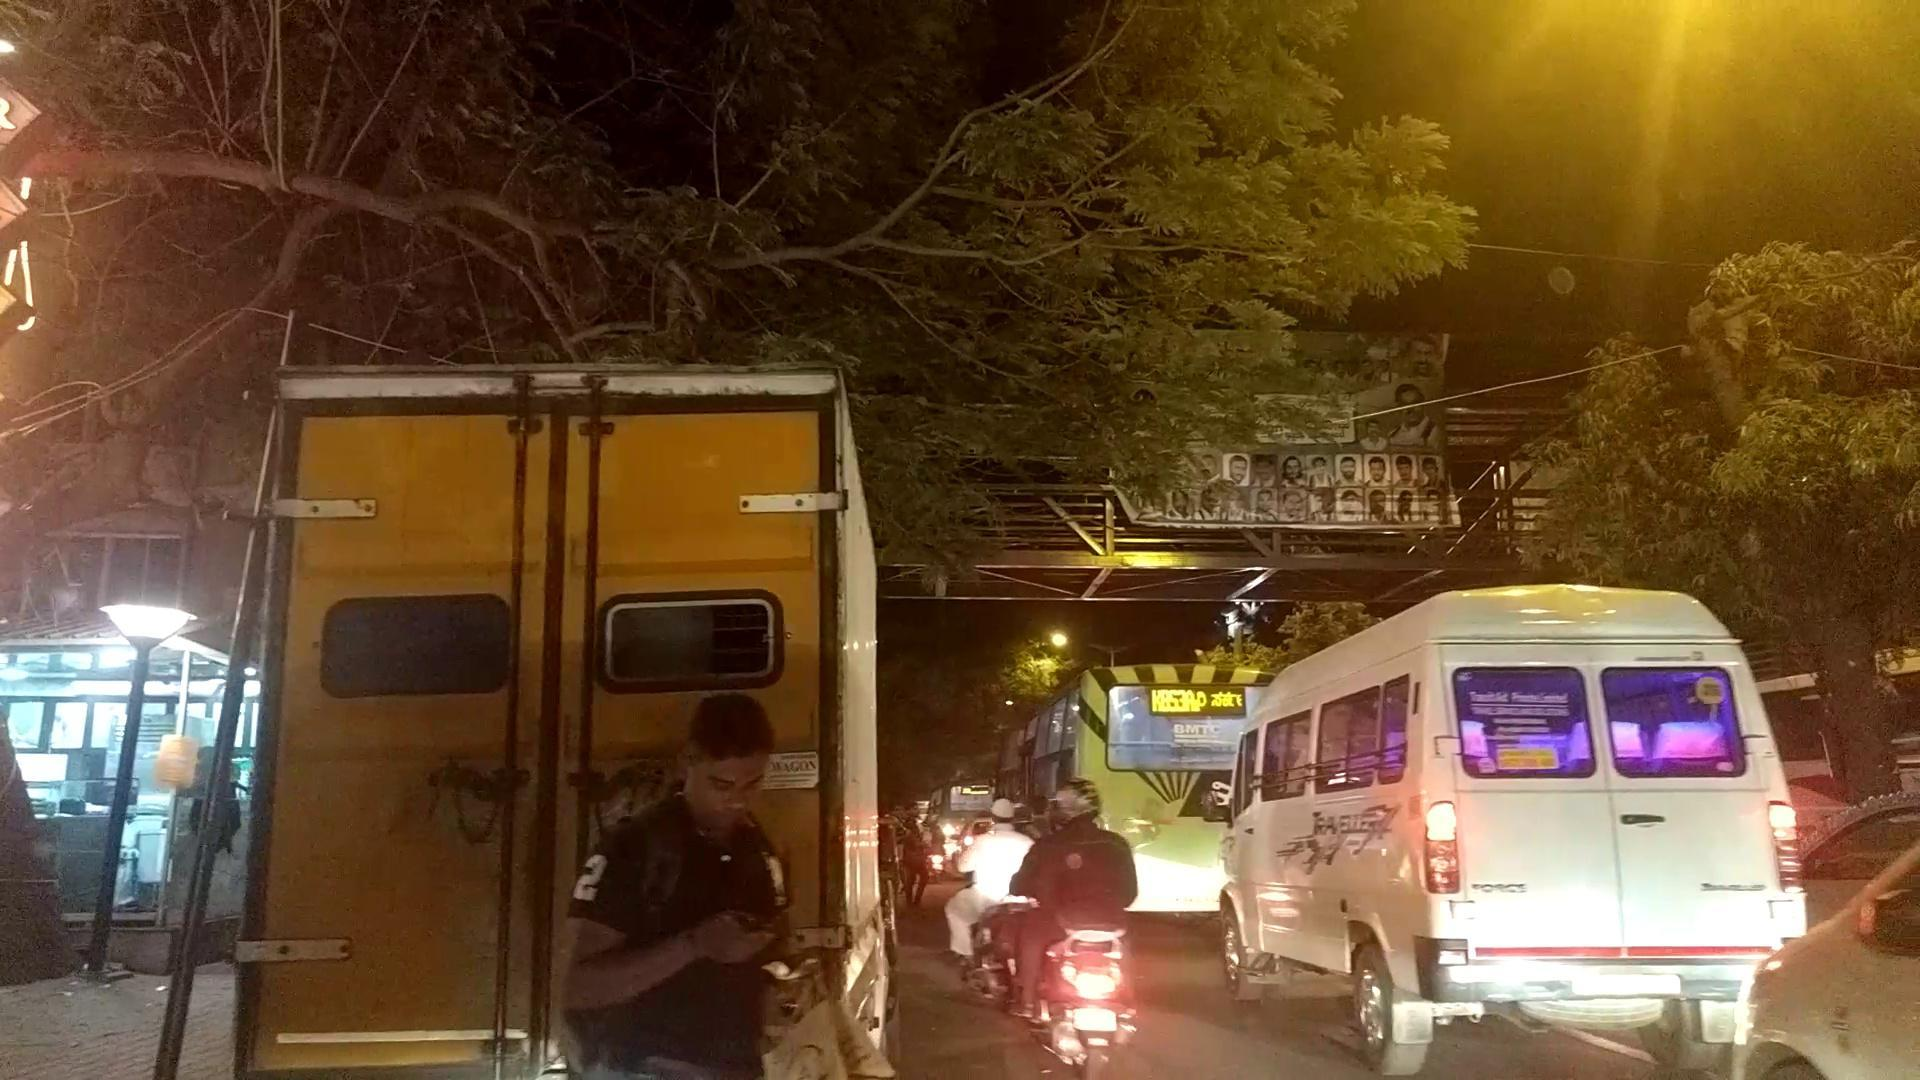on: (40, 73, 1920, 1080)
